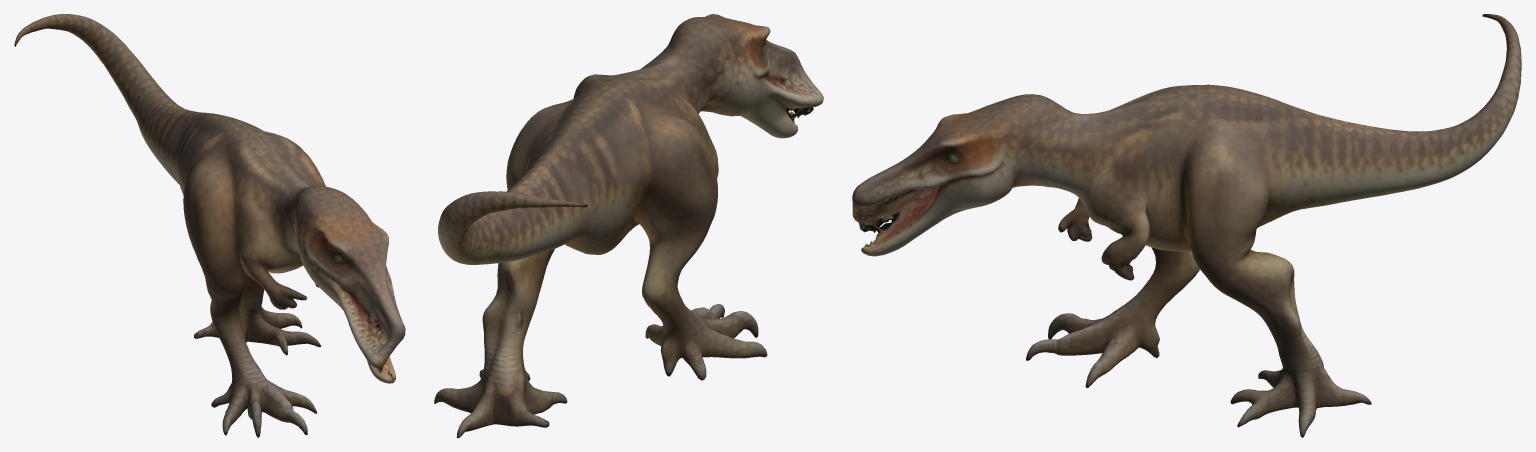
3 views of the same model, side by side, from view 1: azimuth 30°, elevation 25°; view 2: azimuth 150°, elevation 25°; view 3: azimuth 270°, elevation 25° (orthographic). The views are drawn at different scales.
Visible parts, largest first — view 1: world; view 2: world; view 3: world.
Boxes of the visible parts, x1,y1,x2,y2 form: world: (14, 14, 405, 437); world: (434, 14, 823, 437); world: (852, 14, 1521, 437).
Size of the model in its own units: 2.02 by 2.63 by 5.
Materials: 1 (1 with a texture image).
